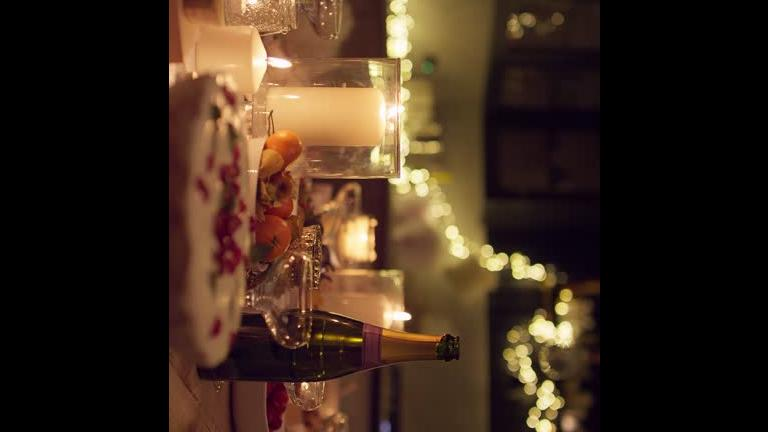controlled_fire: (246, 42, 294, 84), (369, 301, 423, 336)
